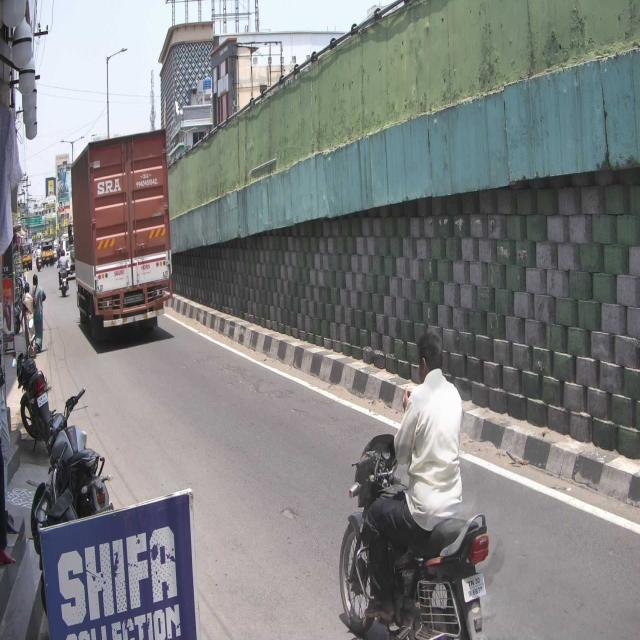single_rider: (338, 326, 491, 640)
